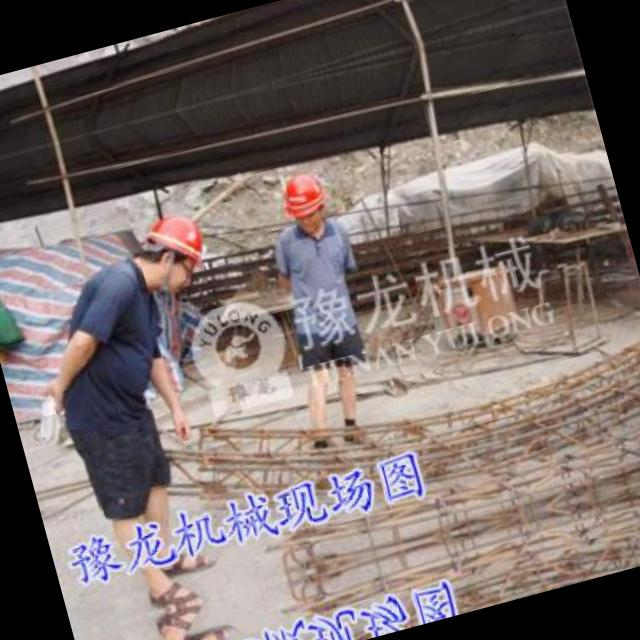helmet: (128, 202, 220, 296), (272, 166, 333, 236)
